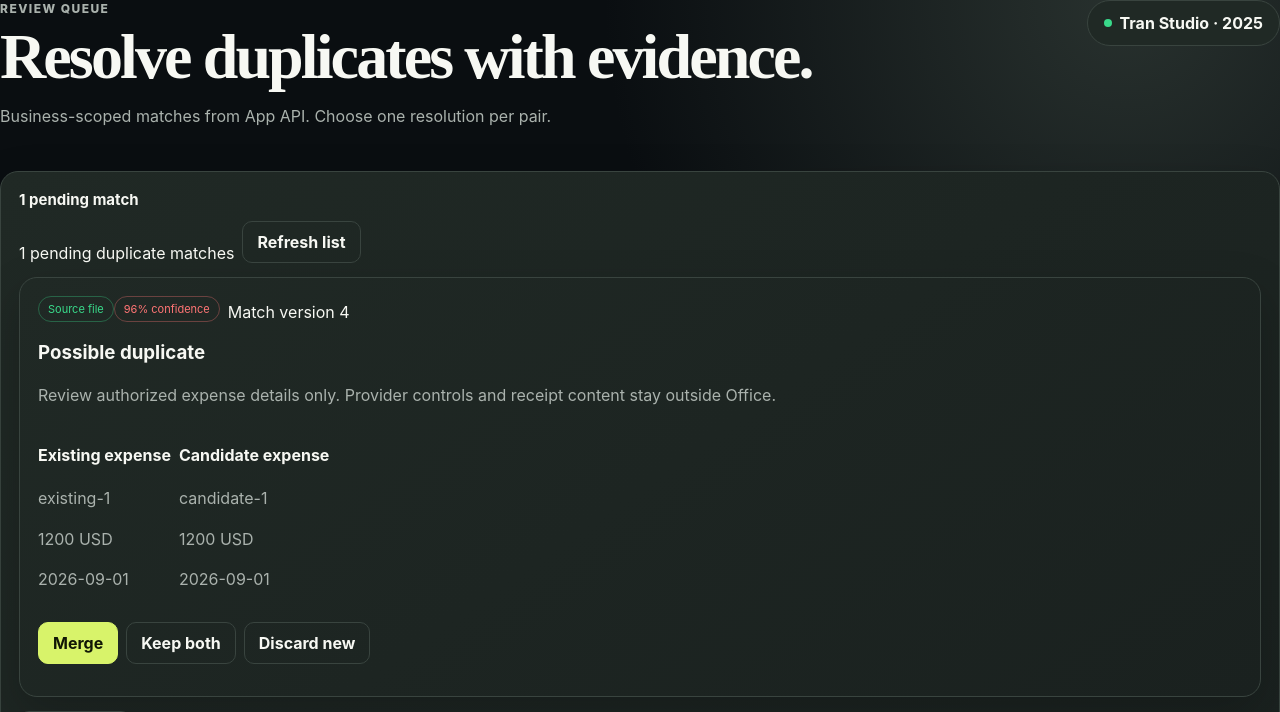
Scenario: rendered Office duplicate review › fails closed when action authorization expires with 401
This screenshot has width=1280, height=712.
Click the button "Merge" at (78, 643), box [38,622,118,664]
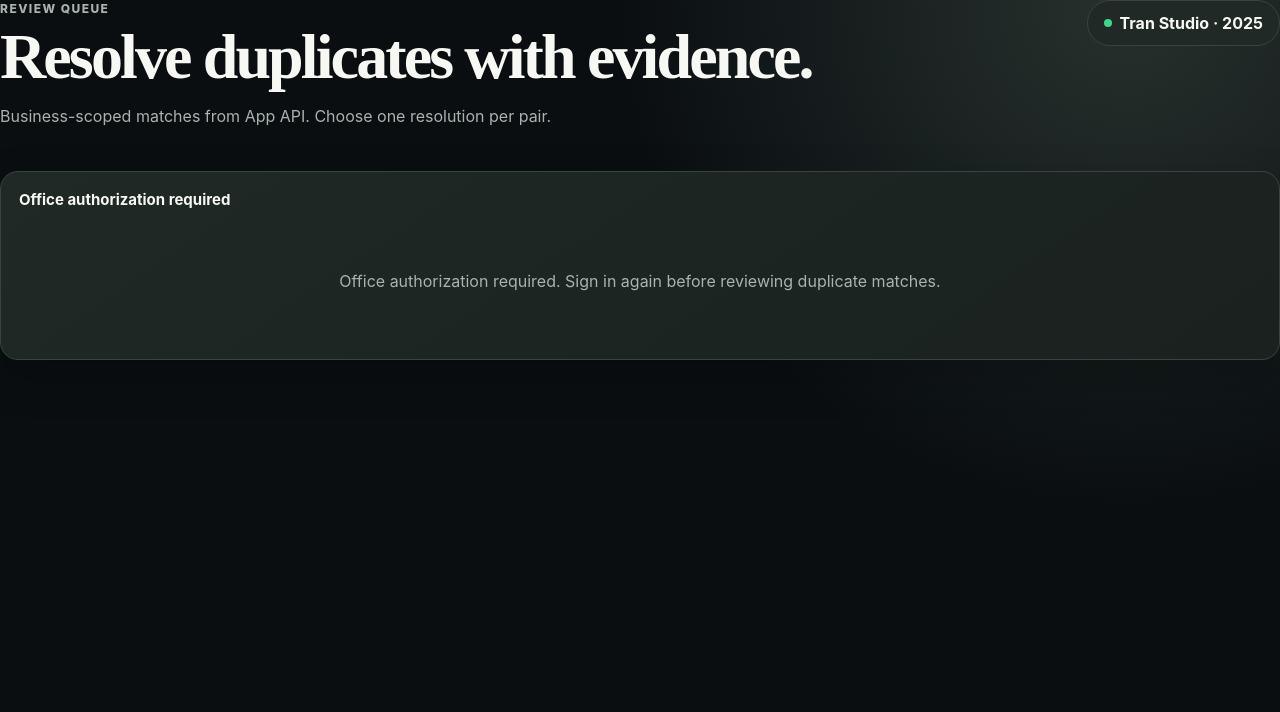
Expected: the message shows "Office authorization required", [339,271,941,291]
Expected: the button "Merge" is gone
